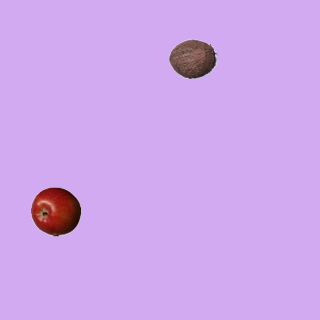Apple Braeburn: (30, 186, 80, 236)
Cocos: (167, 33, 217, 83)
